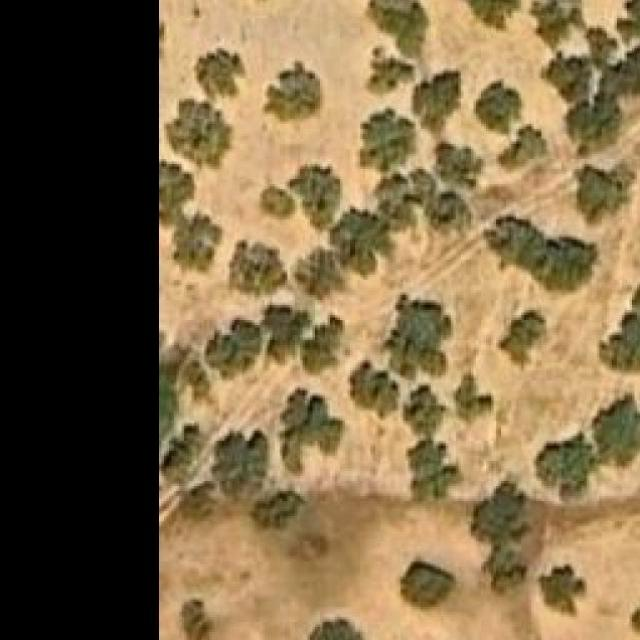Tree: (483, 217, 599, 301), (179, 429, 270, 519), (385, 295, 454, 378), (279, 388, 342, 474), (164, 101, 232, 169), (371, 0, 436, 58), (536, 434, 595, 497), (574, 164, 634, 224), (473, 484, 533, 544), (337, 209, 393, 273), (600, 284, 640, 370), (357, 109, 413, 169), (265, 61, 320, 122), (592, 395, 640, 463), (563, 96, 619, 154), (208, 323, 260, 382), (498, 310, 549, 370), (229, 242, 285, 296), (171, 214, 224, 270), (407, 441, 458, 499), (362, 46, 416, 100), (191, 46, 245, 100), (399, 554, 453, 608), (295, 169, 343, 227), (265, 300, 310, 361), (473, 81, 521, 137), (538, 564, 587, 615), (412, 73, 458, 127), (352, 363, 396, 417), (481, 549, 531, 595), (543, 51, 592, 97), (436, 141, 483, 187), (159, 162, 197, 217), (423, 189, 471, 230), (531, 1, 580, 41), (498, 127, 547, 167), (456, 375, 496, 424), (406, 383, 444, 434), (458, 0, 526, 28), (305, 614, 365, 640), (617, 0, 640, 53), (262, 179, 292, 214)
